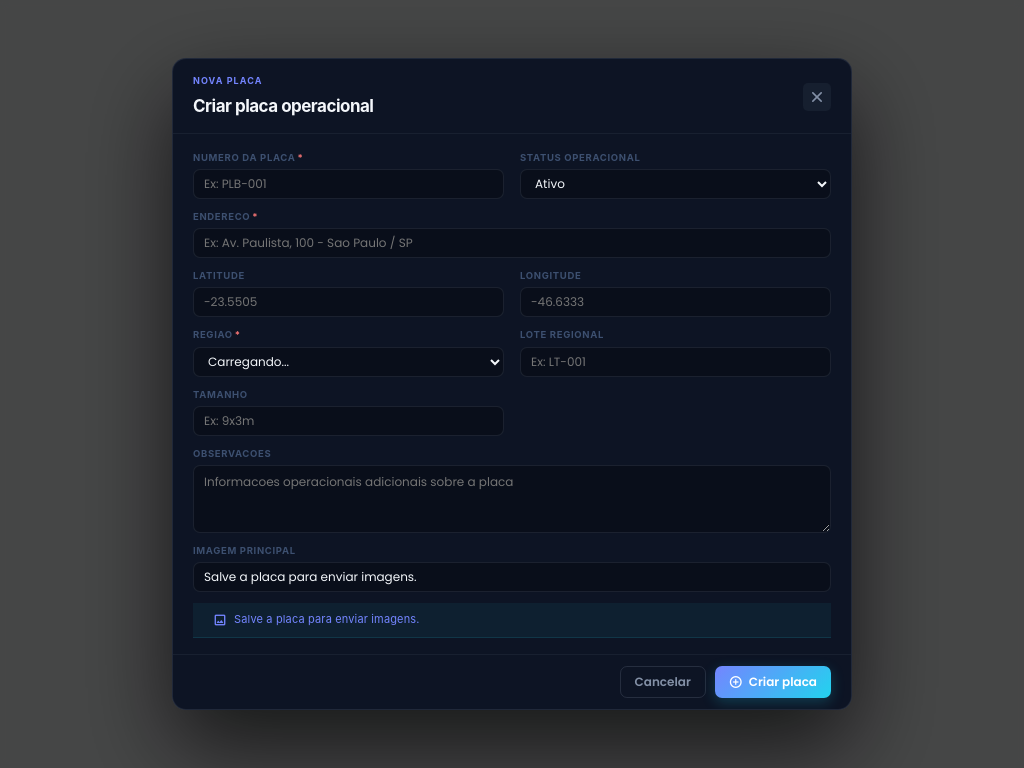
Scenario: BoardCreatePanel › mantem o painel aberto e mostra conflito amigavel no numero da placa
Type "PLACA 07" into the field with placeholder "Ex: PLB-001" at (348, 184), box [193,169,504,199]
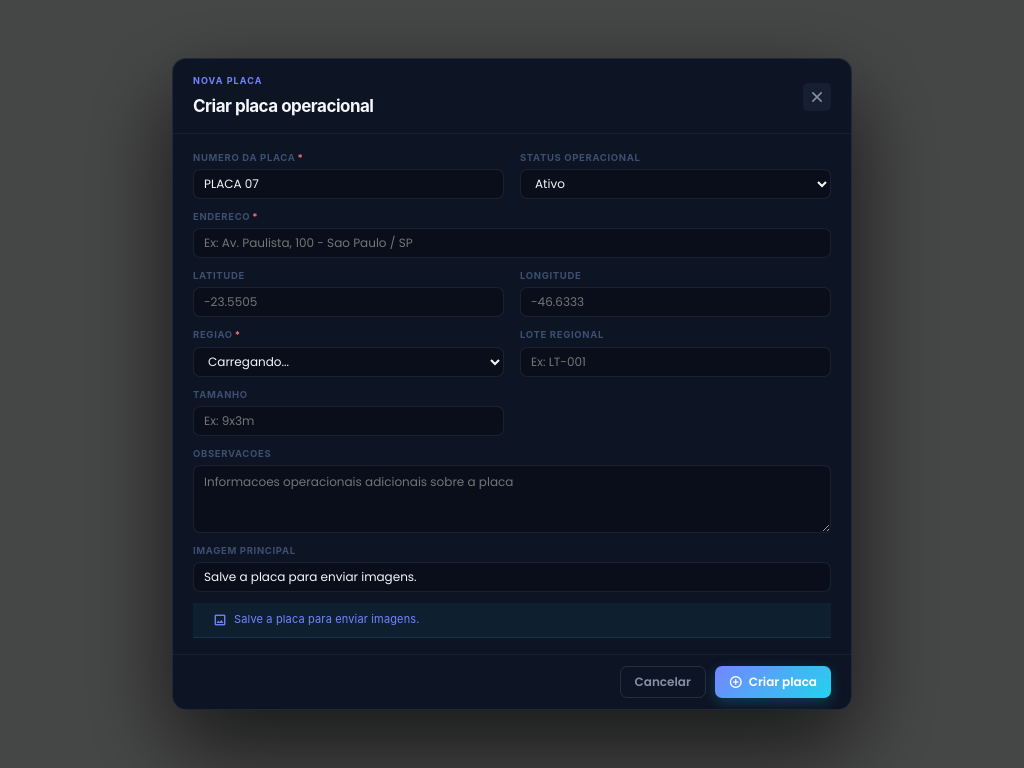
Type "Rua Teste" into the field with placeholder "Ex: Av. Paulista, 100 - Sao Paulo / SP" at (512, 243), box [193,228,831,258]
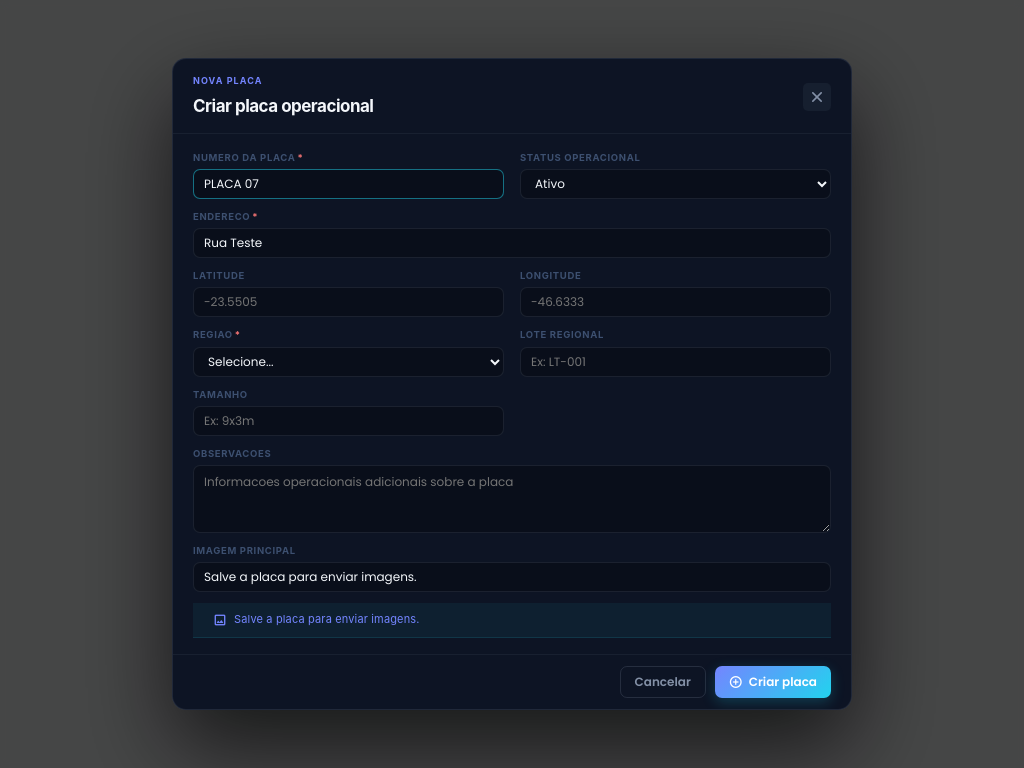
Select "Centro" in the dropdown below "Regiao" at (348, 362), box [193,346,504,376]
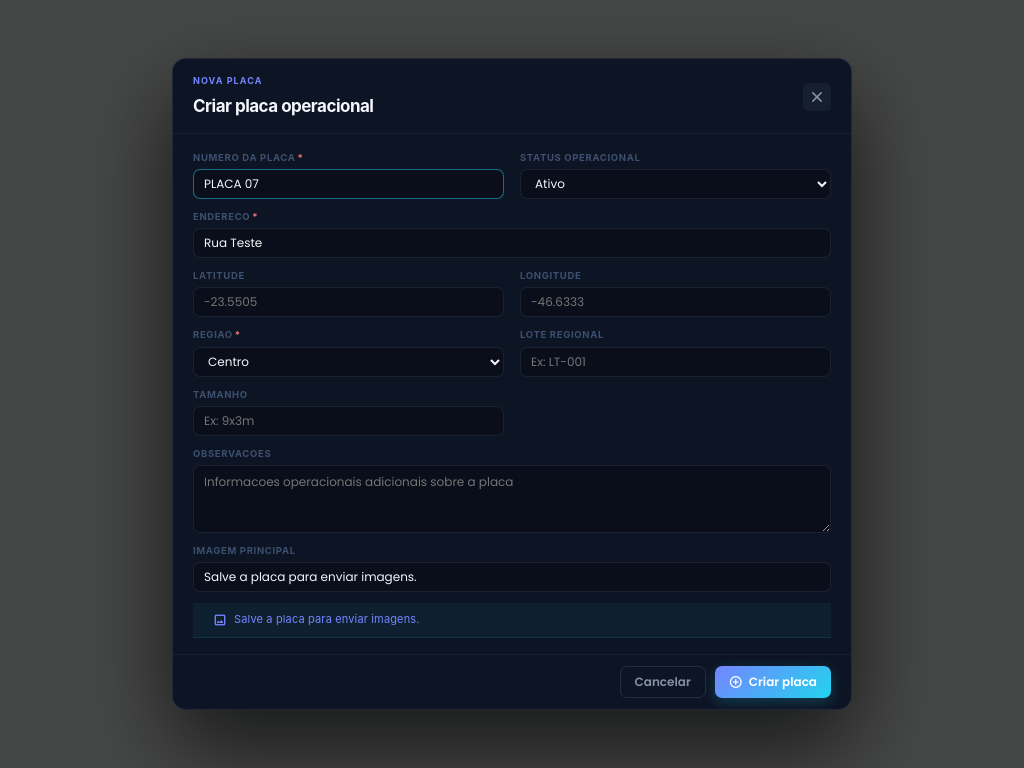
Click the button "Criar placa" at (773, 682), box [715,666,831,698]
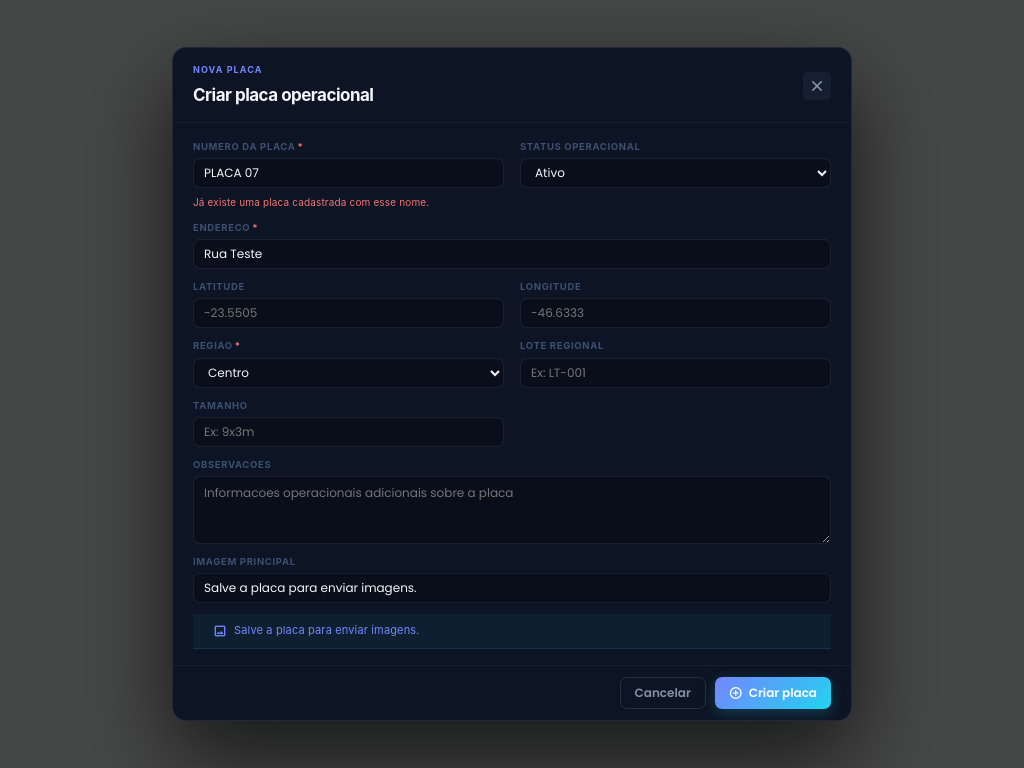
Check: the text "Já existe uma placa cadastrada com esse nome." is shown, box [193,196,429,208]
